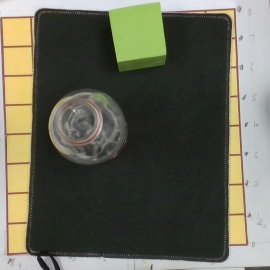bottle: (48, 89, 128, 166)
